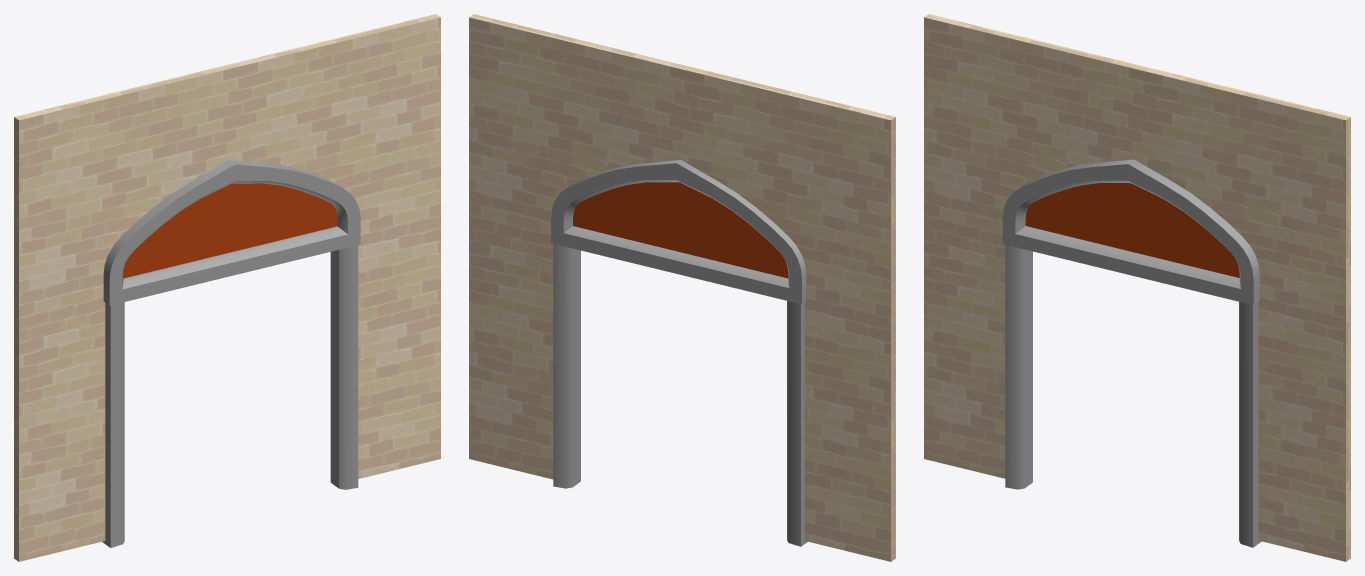
File: SM_wall_door_04.fbx
3 renders of one model, left to right at view 1: azimuth 30°, elevation 25°; view 2: azimuth 150°, elevation 25°; view 3: azimuth 330°, elevation 25°, orthographic.
Visible parts, largest first — view 1: Object33031; view 2: Object33031; view 3: Object33031.
Part boxes in pixels (x1,y1,x2,y2): Object33031: (14,14,440,561); Object33031: (469,14,895,561); Object33031: (924,14,1350,561).
Bounding box in the file's own units: 170 × 171 × 10.69.
